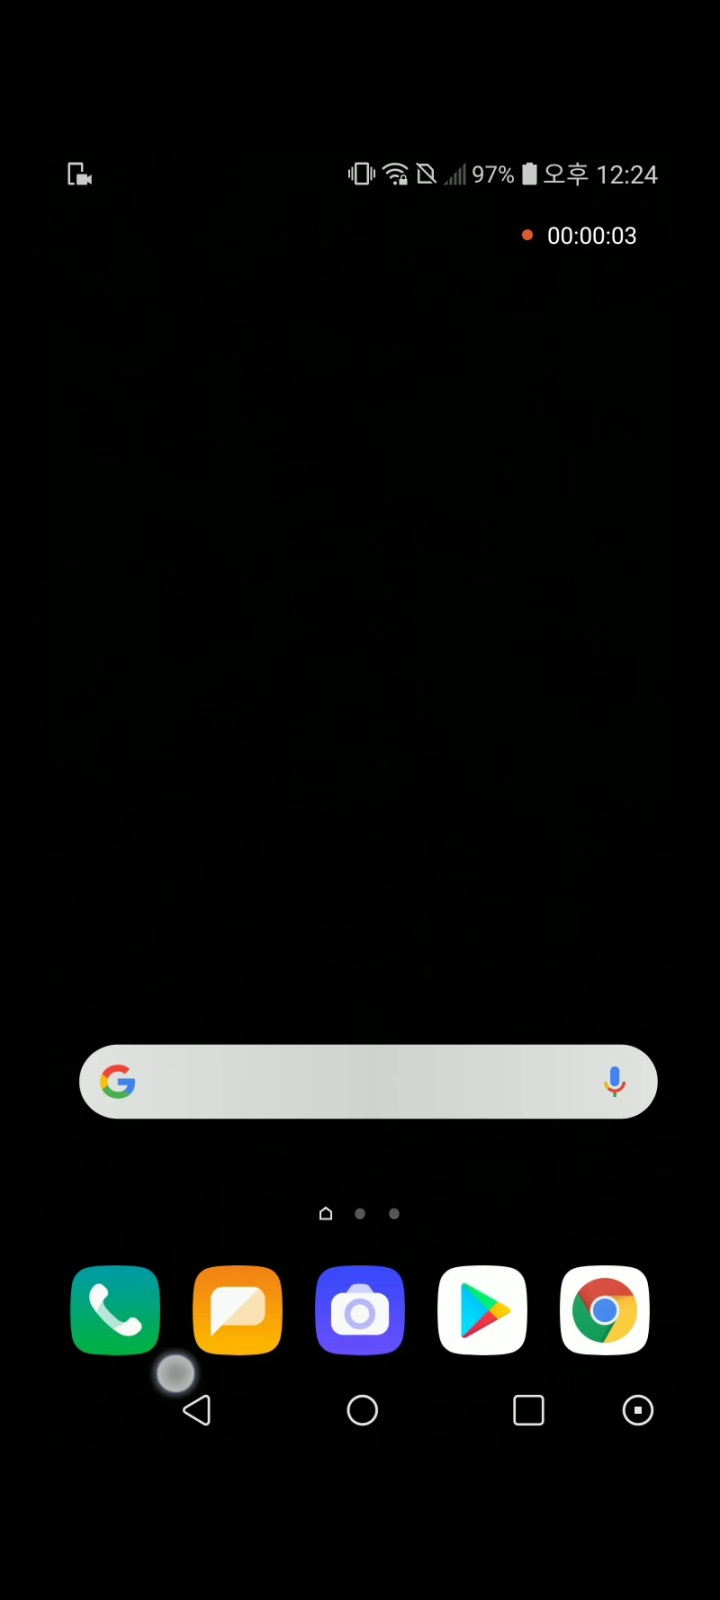Cursor: (153, 1352, 198, 1397)
